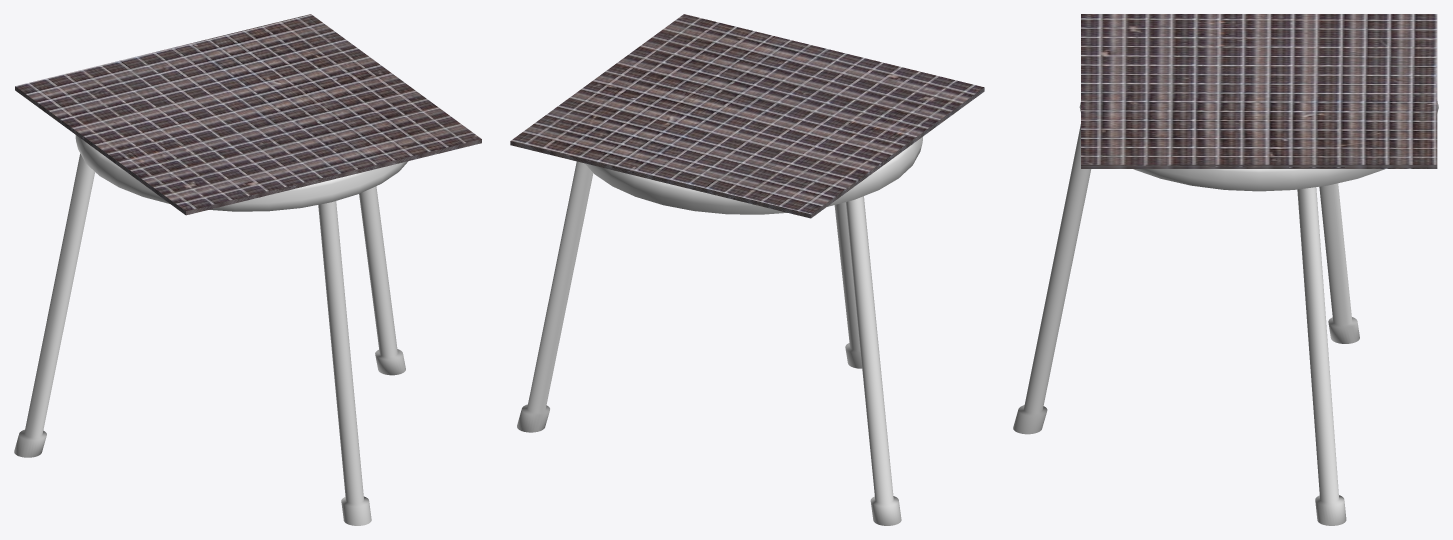
Rendered from driepoot.fbx.
3 renders of one model, left to right at view 1: azimuth 30°, elevation 25°; view 2: azimuth 150°, elevation 25°; view 3: azimuth 270°, elevation 25°, orthographic. The views are drawn at different scales.
Parts seen in each view (by area): view 1: gaasje, driepoot; view 2: gaasje, driepoot; view 3: gaasje, driepoot.
Part boxes in pixels (x1,y1,x2,y2): gaasje: (15,14,481,215); driepoot: (14,135,408,525); gaasje: (510,14,984,218); driepoot: (517,137,922,525); gaasje: (1081,14,1437,168); driepoot: (1013,101,1438,525).
Size of the model in its own units: 213 by 173 by 197.
